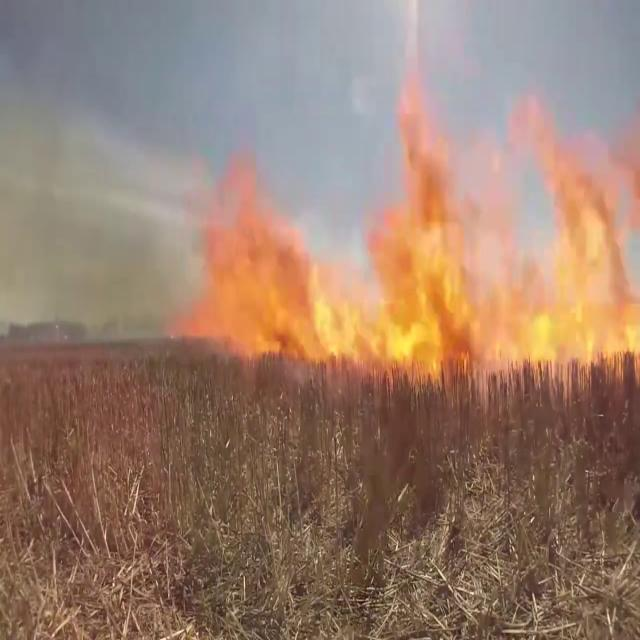Fire: (178, 106, 640, 392)
